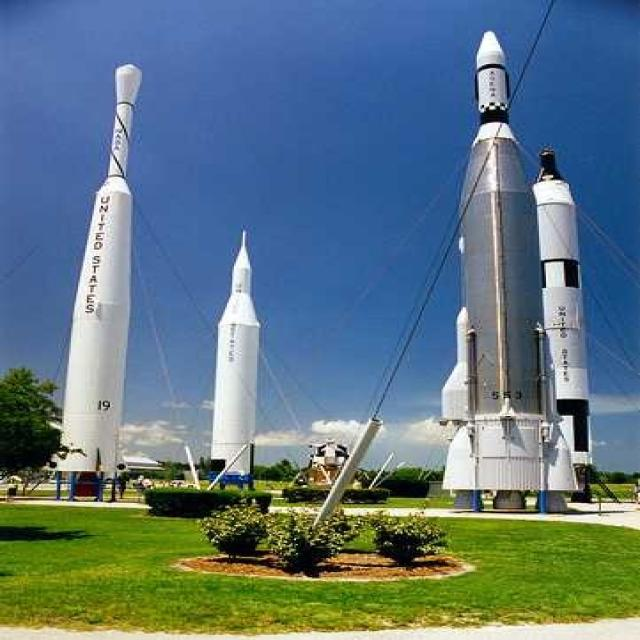missile: (438, 26, 606, 502), (57, 59, 143, 504), (208, 231, 264, 481)
